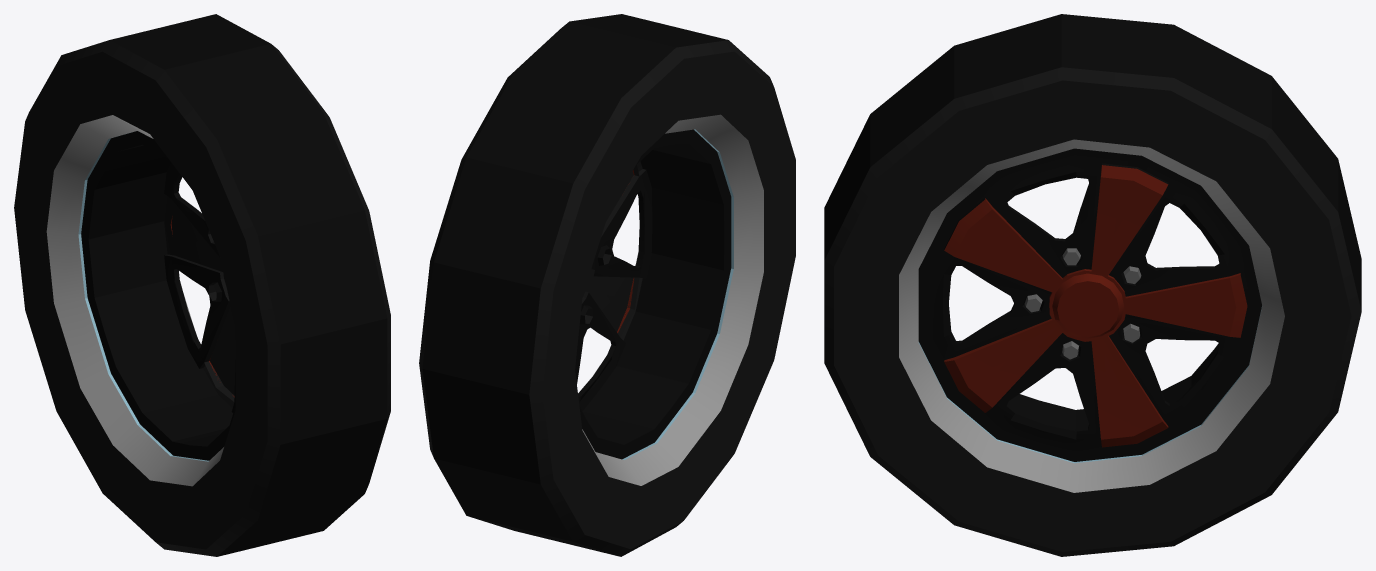
File: fachs.glb
The picture shows the model from 3 angles, left to right: view 1: azimuth 30°, elevation 25°; view 2: azimuth 150°, elevation 25°; view 3: azimuth 270°, elevation 25°; orthographic projection. The views are drawn at different scales.
Visible parts, largest first — view 1: rim; view 2: rim; view 3: rim.
Part boxes in pixels (left/top/right/bottom): rim: left=14, top=14, right=390, bottom=556; rim: left=419, top=14, right=795, bottom=556; rim: left=824, top=14, right=1361, bottom=556.
Size of the model in its own units: 0.5356 by 1.99 by 1.98.
